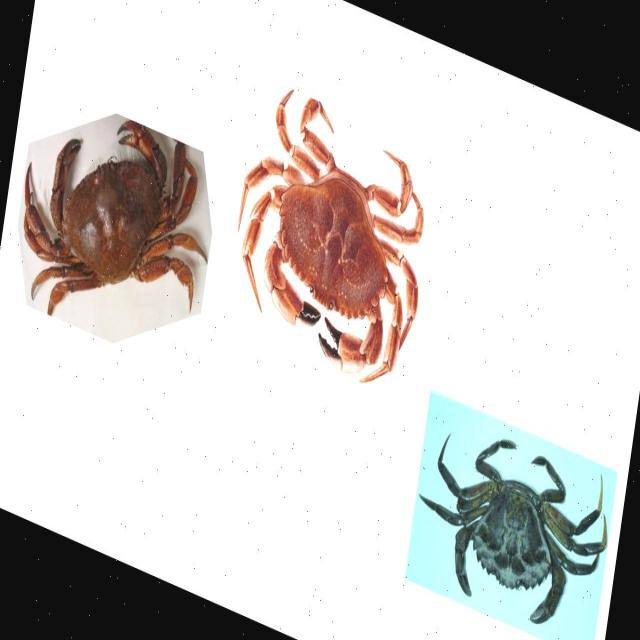egc: (419, 431, 608, 625)
